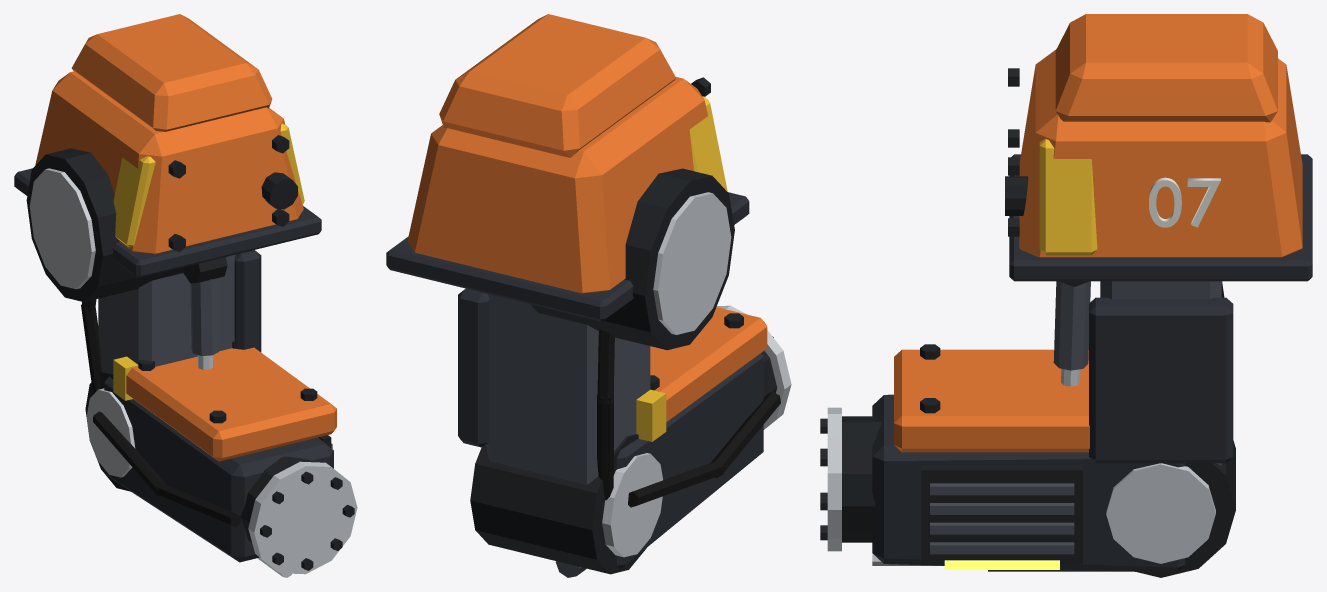
File: arm_L_mk1.glb
3 views of the same model, side by side, from view 1: azimuth 30°, elevation 25°; view 2: azimuth 150°, elevation 25°; view 3: azimuth 270°, elevation 25° (orthographic). The views are drawn at different scales.
Parts seen in each view (by area): view 1: armor_pauldron_L, armor_pauldron_top_L, armor_forearm_L, forearm_L, upper_arm_L, wrist_ring_L, shoulder_cap_L, shoulder_servo_L, pauldron_rim_L, pauldron_stripe_L, armor_bicep_L, forearm_cable_L (+10 smaller); view 2: armor_pauldron_L, armor_pauldron_top_L, upper_arm_L, elbow_cap_L, forearm_L, shoulder_cap_L, shoulder_servo_L, pauldron_rim_L, armor_forearm_L, armor_bicep_L, elbow_rings_L, forearm_cable_L (+4 smaller); view 3: armor_pauldron_L, armor_bicep_L, armor_pauldron_top_L, armor_forearm_L, forearm_L, forearm_vent_L_frame, pauldron_rim_L, elbow_rings_L, forearm_vent_L, pauldron_stripe_L, wrist_L, elbow_cap_L (+7 smaller).
Part boxes in pixels (bbox=[...]): armor_pauldron_L: bbox=[35, 71, 303, 254]; armor_pauldron_top_L: bbox=[71, 14, 272, 131]; armor_forearm_L: bbox=[126, 347, 336, 461]; forearm_L: bbox=[104, 376, 333, 562]; upper_arm_L: bbox=[98, 254, 235, 373]; wrist_ring_L: bbox=[248, 461, 357, 574]; shoulder_cap_L: bbox=[26, 148, 185, 301]; shoulder_servo_L: bbox=[29, 168, 95, 289]; pauldron_rim_L: bbox=[14, 168, 321, 277]; pauldron_stripe_L: bbox=[113, 123, 304, 247]; armor_bicep_L: bbox=[234, 250, 261, 352]; forearm_cable_L: bbox=[93, 411, 240, 527]; armor_pauldron_L: bbox=[407, 77, 708, 293]; armor_pauldron_top_L: bbox=[439, 14, 675, 157]; upper_arm_L: bbox=[485, 294, 650, 484]; elbow_cap_L: bbox=[470, 434, 646, 574]; forearm_L: bbox=[617, 353, 763, 568]; shoulder_cap_L: bbox=[530, 168, 734, 350]; shoulder_servo_L: bbox=[653, 192, 731, 334]; pauldron_rim_L: bbox=[386, 192, 749, 321]; armor_forearm_L: bbox=[650, 307, 767, 422]; armor_bicep_L: bbox=[458, 288, 489, 447]; elbow_rings_L: bbox=[602, 453, 662, 557]; forearm_cable_L: bbox=[628, 391, 780, 507]; armor_pauldron_L: bbox=[1019, 50, 1302, 257]; armor_bicep_L: bbox=[1089, 297, 1233, 463]; armor_pauldron_top_L: bbox=[1055, 14, 1277, 122]; armor_forearm_L: bbox=[894, 349, 1089, 452]; forearm_L: bbox=[872, 394, 1185, 571]; forearm_vent_L_frame: bbox=[921, 465, 1082, 564]; pauldron_rim_L: bbox=[1009, 154, 1312, 281]; elbow_rings_L: bbox=[1106, 463, 1215, 563]; forearm_vent_L: bbox=[930, 483, 1074, 554]; pauldron_stripe_L: bbox=[1039, 138, 1097, 255]; wrist_L: bbox=[842, 416, 880, 542]; elbow_cap_L: bbox=[1123, 440, 1235, 577].
Size of what is drawn, in the model's own units: 0.97 by 2.05 by 1.7.
